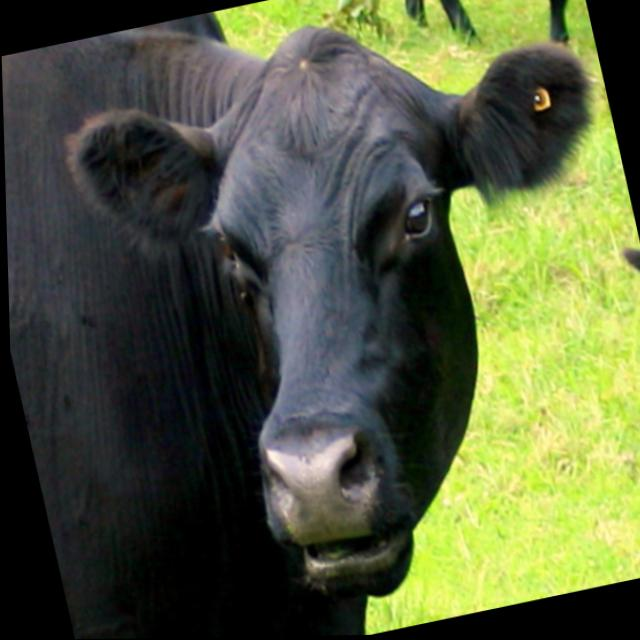cowFace: (43, 0, 640, 529)
